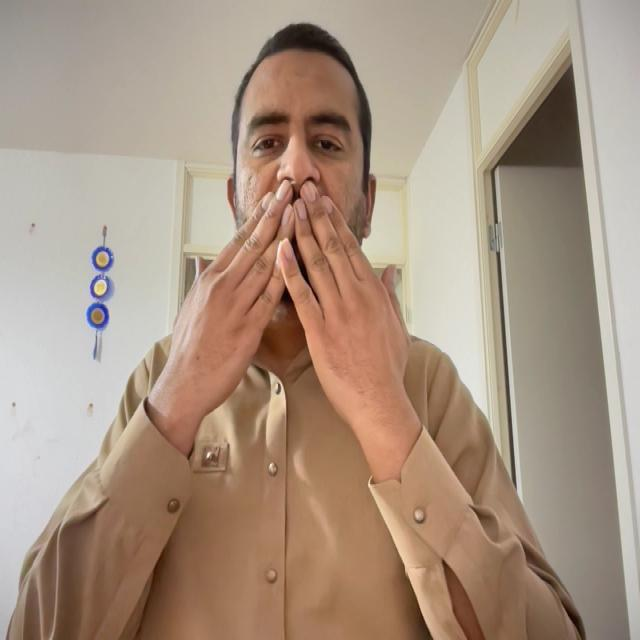Thanks: (124, 167, 460, 500)
